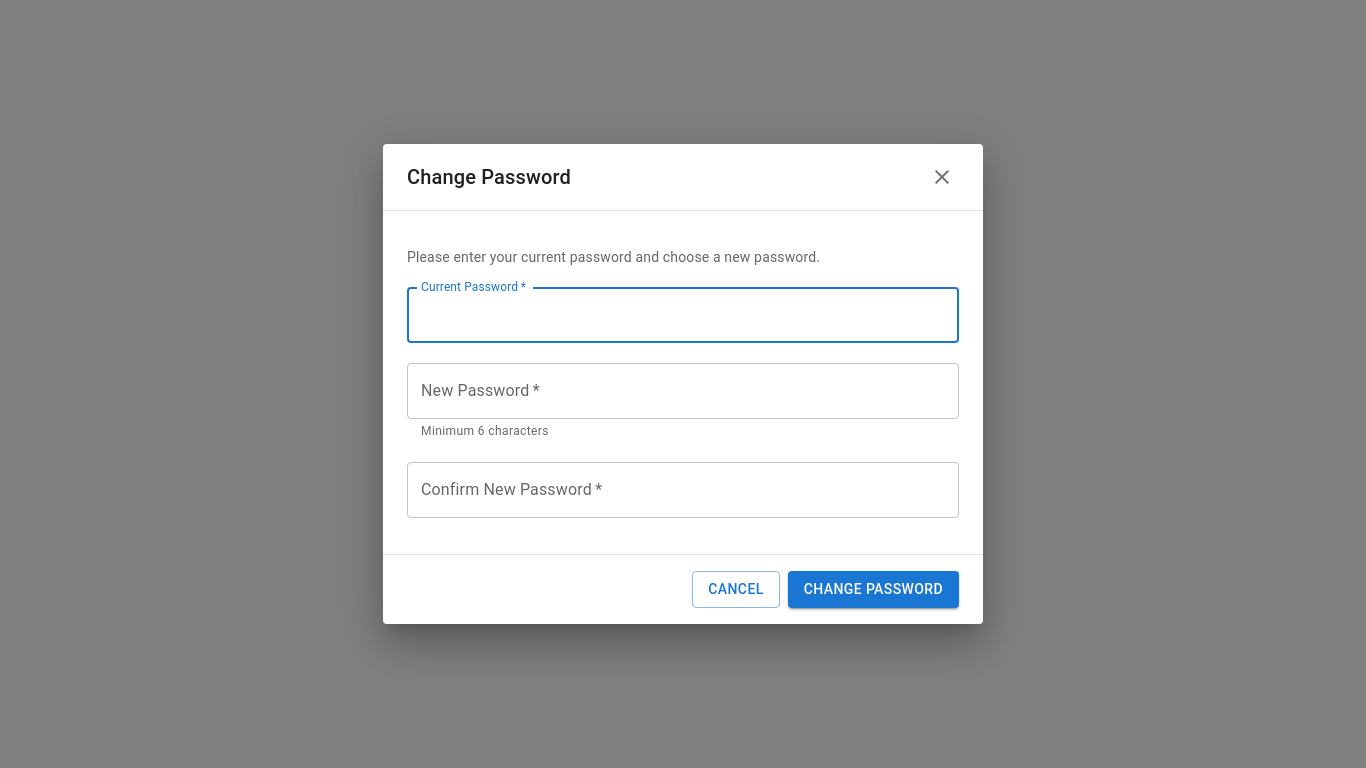
Test: ChangePasswordModal › Form Interactions › clears error when typing in new password field
This screenshot has width=1366, height=768.
Fill current password and submit to trigger new password error
In the password field labelled "Current Password *": (683, 315) [407,287,959,343], type "currentpass"
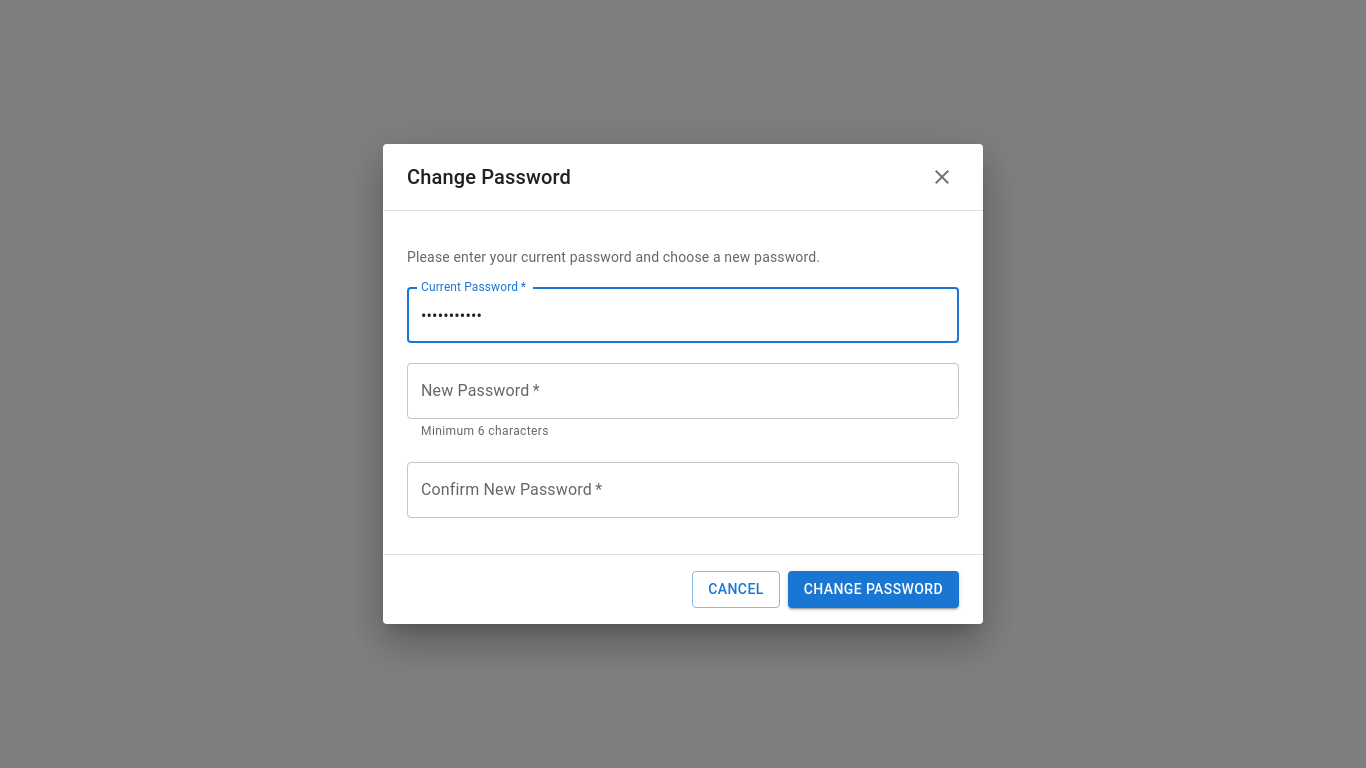
Use fireEvent.submit to bypass HTML5 validation
Submit the form, box [383,211,983,624]
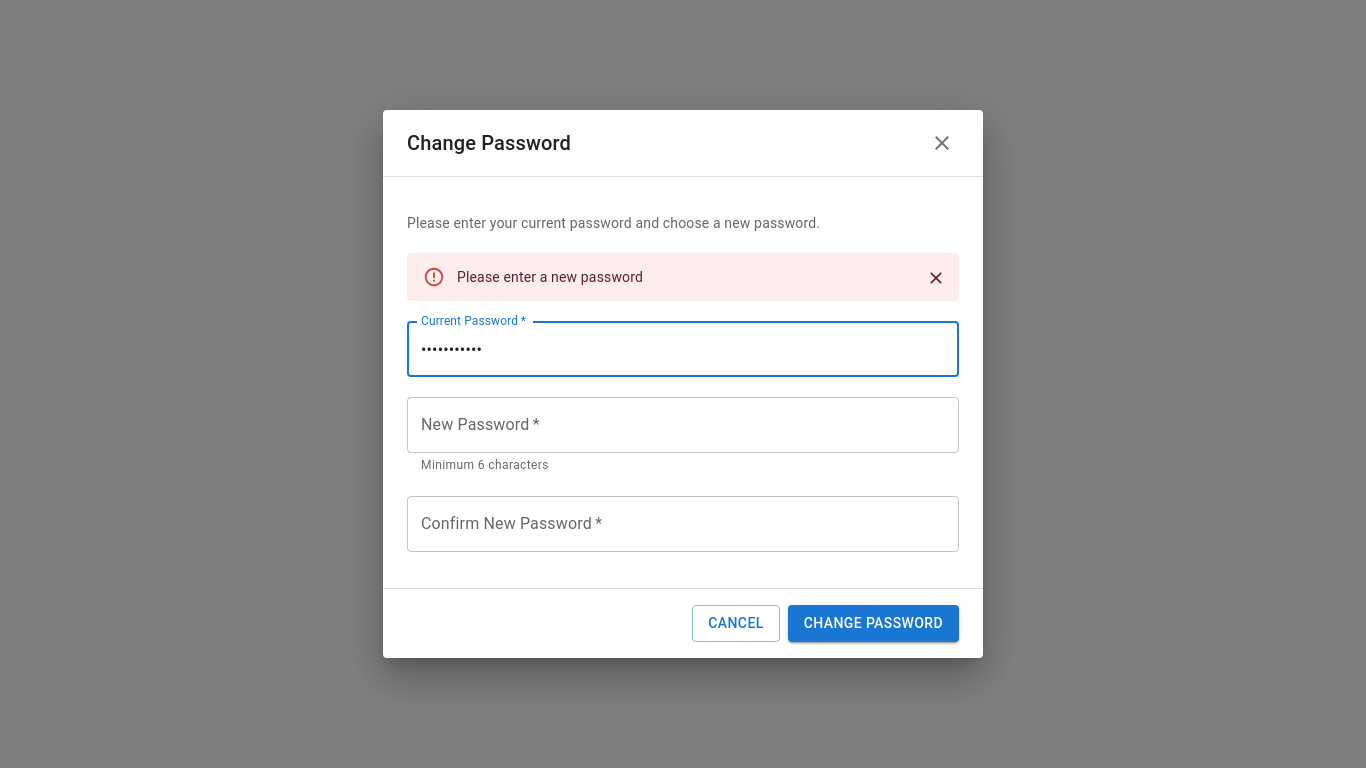
Expected: the text "Please enter a new password" is shown, [457,269,643,285]
Type in new password field to clear error
In the password field labelled "New Password *": (683, 425) [407,397,959,453], type "a"
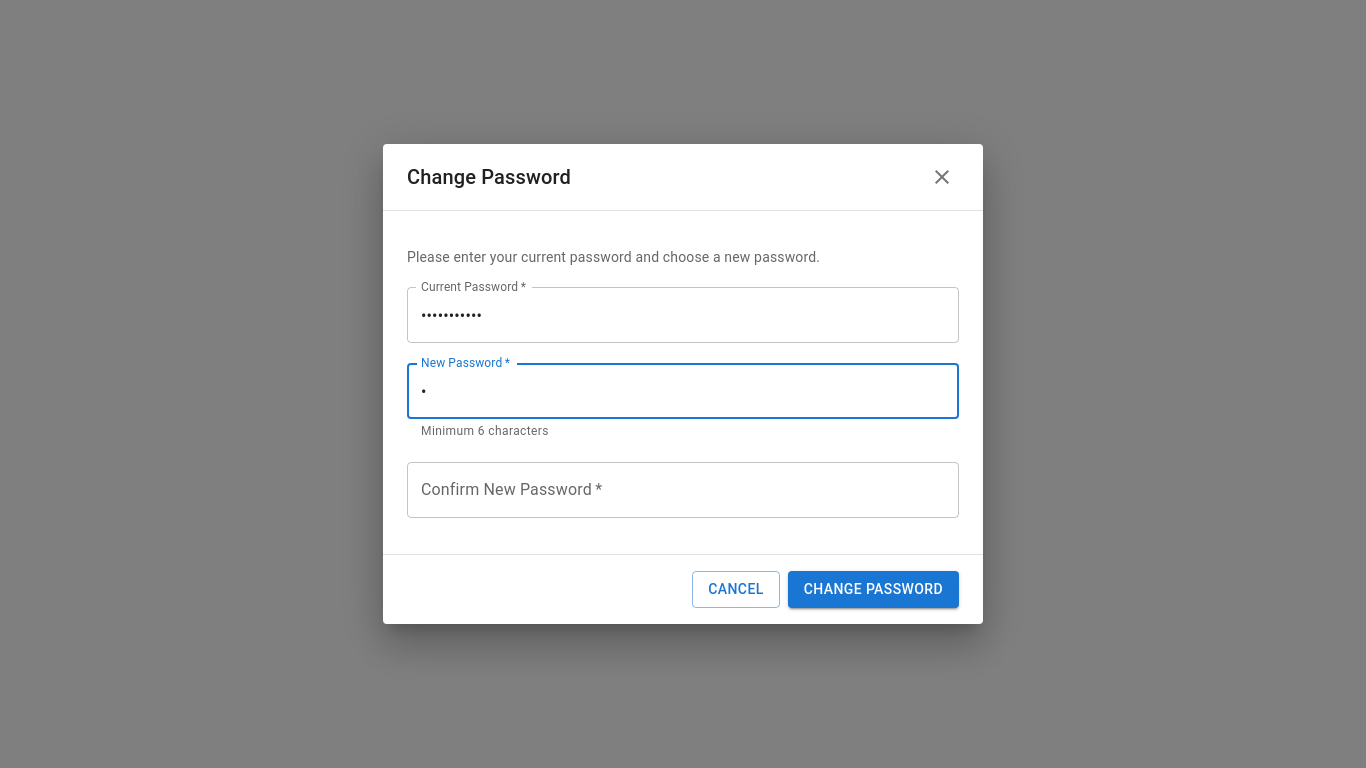
Expected: the text "Please enter a new password" is gone
